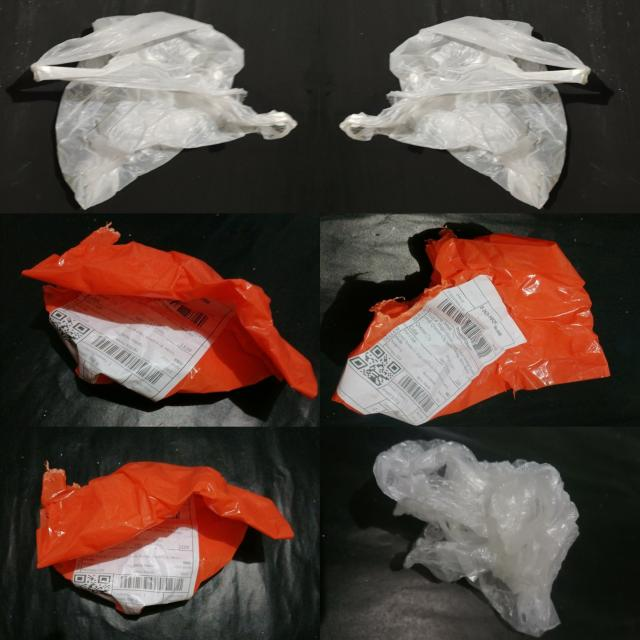Single-layer Plastic: (333, 229, 609, 424), (31, 12, 296, 209), (24, 226, 316, 401), (340, 16, 590, 209), (374, 440, 578, 636), (36, 461, 293, 614)
